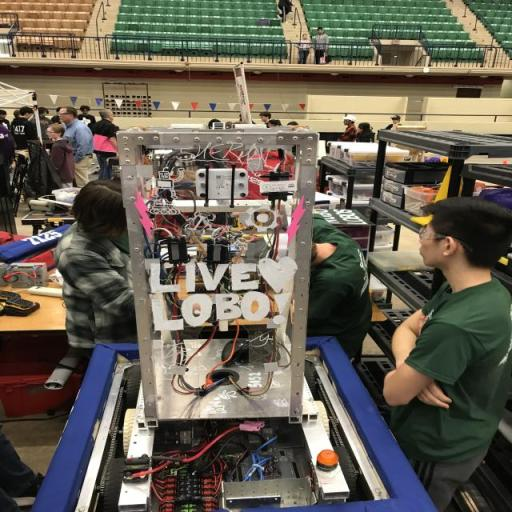robot: (15, 113, 442, 512)
